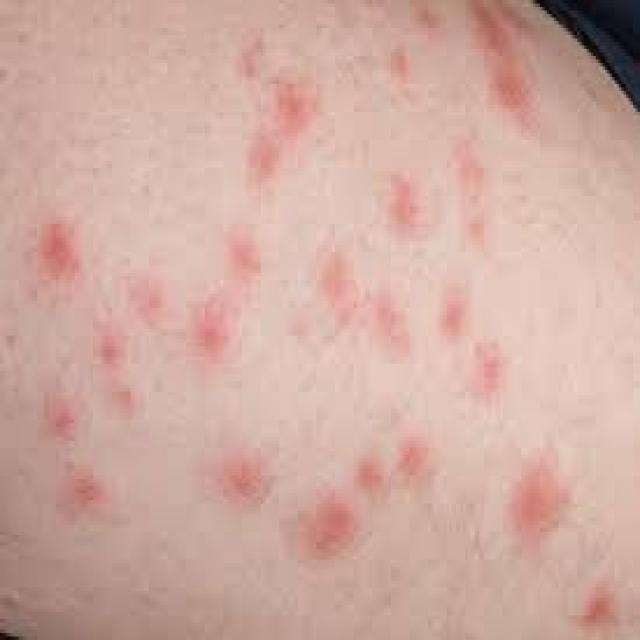kan emici bocekler: (509, 434, 557, 580), (473, 57, 554, 133), (465, 1, 545, 65), (31, 217, 89, 298), (455, 143, 490, 273), (214, 439, 268, 522), (188, 281, 242, 362), (245, 129, 291, 224), (394, 165, 438, 256), (313, 241, 361, 323), (295, 487, 360, 542), (222, 227, 284, 280), (571, 577, 627, 631), (121, 269, 173, 327), (49, 382, 88, 459), (367, 286, 407, 351), (62, 467, 112, 514), (474, 338, 508, 406), (273, 77, 319, 127), (442, 285, 474, 353), (398, 431, 432, 494), (233, 51, 284, 92), (351, 449, 393, 495), (409, 1, 452, 44), (102, 313, 128, 377), (390, 48, 422, 90), (112, 385, 145, 425)
